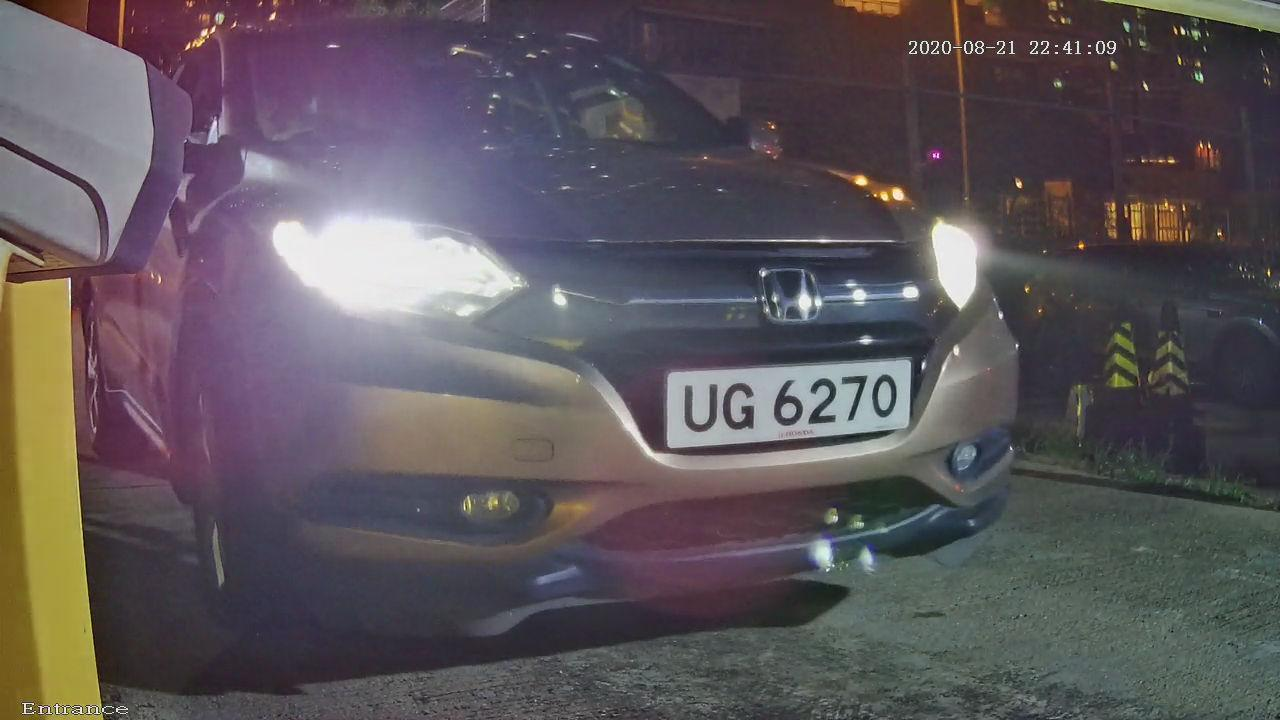Car: (63, 13, 1075, 640)
License Plate: (627, 330, 962, 475)
